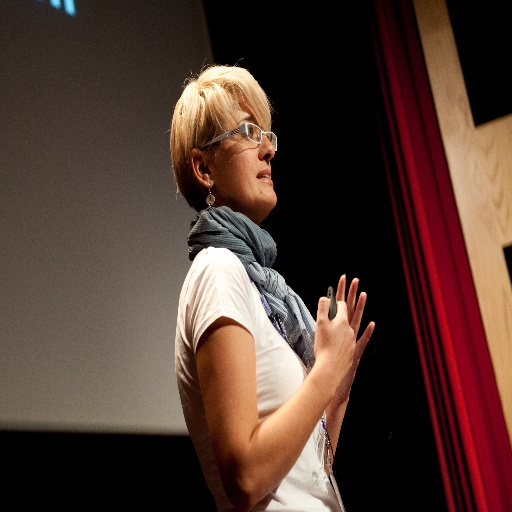hand: (335, 274, 374, 401), (313, 294, 355, 392)
